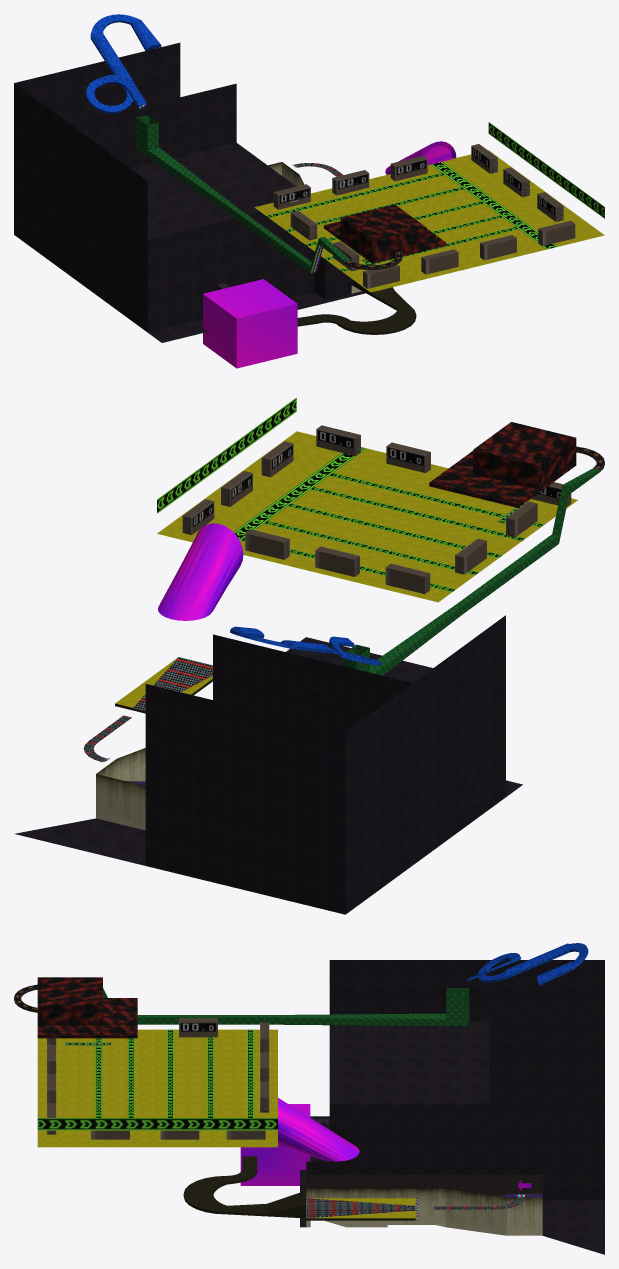
3 views of the same model, one above another, from view 1: azimuth 30°, elevation 25°; view 2: azimuth 150°, elevation 25°; view 3: azimuth 270°, elevation 25° (orthographic). The views are drawn at different scales.
Parts seen in each view (by area): view 1: 7thCTwvr-SKP--Blackgarden_BushCull, 7thCTwvr-SKP--Mutation_Road2, 7thCTwvr-SKP--Skywater_Pianta, 7thCTwvr-SKP--Mutation_NumberwallCull, 7thCTwvr-SKP--Mutation_Road, 7thCTwvr-SKP--GesuidoToPararel_SkyCull, 7thCTwvr-SKP--Gesuido_Wall, 7thCTwvr-SKP--Skywater_RoadCull, 7thCTwvr-SKP--JailBreak_Wall, 7thCTwvr-SKP--Skywater_WallCull; view 2: 7thCTwvr-SKP--Blackgarden_BushCull, 7thCTwvr-SKP--Mutation_Road2, 7thCTwvr-SKP--Mutation_NumberwallCull, 7thCTwvr-SKP--Mutation_Road, 7thCTwvr-SKP--GesuidoToPararel_SkyCull, 7thCTwvr-SKP--Skywater_Pianta, 7thCTwvr-SKP--Gesuido_Wall, 7thCTwvr-SKP--JailCell_Wall2Cull, 7thCTwvr-SKP--Volcanic_RoadCullTrans, 7thCTwvr-SKP--Skywater_WallCull, 7thCTwvr-SKP--Skywater_RoadCull, 7thCTwvr-SKP--0003; view 3: 7thCTwvr-SKP--Blackgarden_BushCull, 7thCTwvr-SKP--Mutation_Road2, 7thCTwvr-SKP--Mutation_Road, 7thCTwvr-SKP--JailCell_Wall2Cull, 7thCTwvr-SKP--GesuidoToPararel_SkyCull, 7thCTwvr-SKP--Skywater_Pianta, 7thCTwvr-SKP--Gesuido_Wall, 7thCTwvr-SKP--JailCell_WallCullTrans, 7thCTwvr-SKP--Mutation_NumberwallCull, 7thCTwvr-SKP--JailBreak_Wall, 7thCTwvr-SKP--Volcanic_RoadCullTrans, 7thCTwvr-SKP--Skywater_RoadCull (+2 smaller).
Boxes of the visible parts, x1=… form: 7thCTwvr-SKP--Blackgarden_BushCull: x1=14, y1=42, x2=365, y2=342; 7thCTwvr-SKP--Mutation_Road2: x1=254, y1=150, x2=604, y2=292; 7thCTwvr-SKP--Skywater_Pianta: x1=203, y1=141, x2=456, y2=368; 7thCTwvr-SKP--Mutation_NumberwallCull: x1=273, y1=144, x2=575, y2=288; 7thCTwvr-SKP--Mutation_Road: x1=266, y1=122, x2=604, y2=271; 7thCTwvr-SKP--GesuidoToPararel_SkyCull: x1=324, y1=204, x2=446, y2=263; 7thCTwvr-SKP--Gesuido_Wall: x1=136, y1=115, x2=349, y2=272; 7thCTwvr-SKP--Skywater_RoadCull: x1=86, y1=14, x2=161, y2=111; 7thCTwvr-SKP--JailBreak_Wall: x1=297, y1=279, x2=416, y2=334; 7thCTwvr-SKP--Skywater_WallCull: x1=85, y1=20, x2=146, y2=113; 7thCTwvr-SKP--Blackgarden_BushCull: x1=14, y1=615, x2=522, y2=914; 7thCTwvr-SKP--Mutation_Road2: x1=157, y1=431, x2=577, y2=602; 7thCTwvr-SKP--Mutation_NumberwallCull: x1=182, y1=425, x2=571, y2=594; 7thCTwvr-SKP--Mutation_Road: x1=157, y1=397, x2=544, y2=592; 7thCTwvr-SKP--GesuidoToPararel_SkyCull: x1=429, y1=422, x2=576, y2=507; 7thCTwvr-SKP--Skywater_Pianta: x1=158, y1=523, x2=243, y2=620; 7thCTwvr-SKP--Gesuido_Wall: x1=344, y1=468, x2=599, y2=675; 7thCTwvr-SKP--JailCell_Wall2Cull: x1=96, y1=748, x2=145, y2=830; 7thCTwvr-SKP--Volcanic_RoadCullTrans: x1=83, y1=657, x2=212, y2=761; 7thCTwvr-SKP--Skywater_WallCull: x1=230, y1=629, x2=381, y2=665; 7thCTwvr-SKP--Skywater_RoadCull: x1=231, y1=626, x2=381, y2=662; 7thCTwvr-SKP--0003: x1=115, y1=657, x2=212, y2=707; 7thCTwvr-SKP--Blackgarden_BushCull: x1=300, y1=960, x2=604, y2=1254; 7thCTwvr-SKP--Mutation_Road2: x1=37, y1=1029, x2=277, y2=1147; 7thCTwvr-SKP--Mutation_Road: x1=37, y1=1029, x2=277, y2=1130; 7thCTwvr-SKP--JailCell_Wall2Cull: x1=306, y1=1189, x2=542, y2=1235; 7thCTwvr-SKP--GesuidoToPararel_SkyCull: x1=37, y1=977, x2=137, y2=1038; 7thCTwvr-SKP--Skywater_Pianta: x1=240, y1=1098, x2=531, y2=1191; 7thCTwvr-SKP--Gesuido_Wall: x1=103, y1=988, x2=469, y2=1026; 7thCTwvr-SKP--JailCell_WallCullTrans: x1=306, y1=1175, x2=542, y2=1196; 7thCTwvr-SKP--Mutation_NumberwallCull: x1=47, y1=1018, x2=269, y2=1139; 7thCTwvr-SKP--JailBreak_Wall: x1=183, y1=1156, x2=306, y2=1218; 7thCTwvr-SKP--Volcanic_RoadCullTrans: x1=306, y1=1196, x2=524, y2=1218; 7thCTwvr-SKP--Skywater_RoadCull: x1=474, y1=943, x2=587, y2=983.
Bounding box in the file's own units: 108117 × 71960 × 170076.
Materials: 42 (42 with a texture image).
